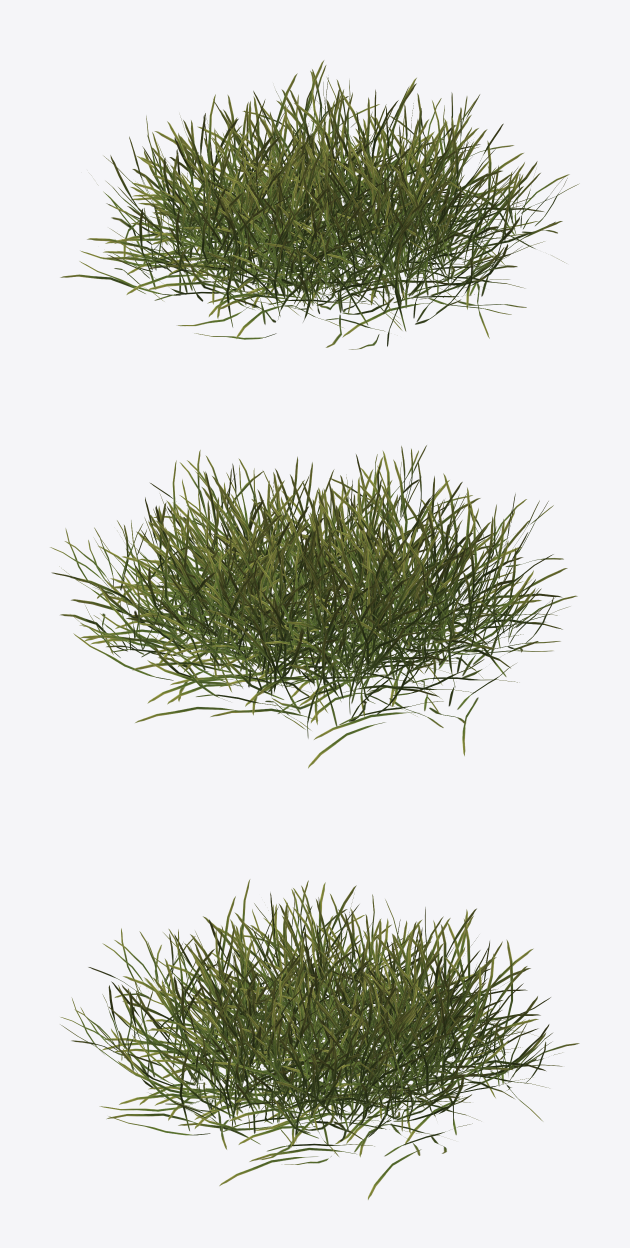
The model's file is grass01.glb.
3 views of the same model, one above another, from view 1: azimuth 30°, elevation 25°; view 2: azimuth 150°, elevation 25°; view 3: azimuth 270°, elevation 25° (orthographic). The views are drawn at different scales.
Size of the model in its own units: 42.51 by 15.1 by 42.5.
1 material, 1 textured.
